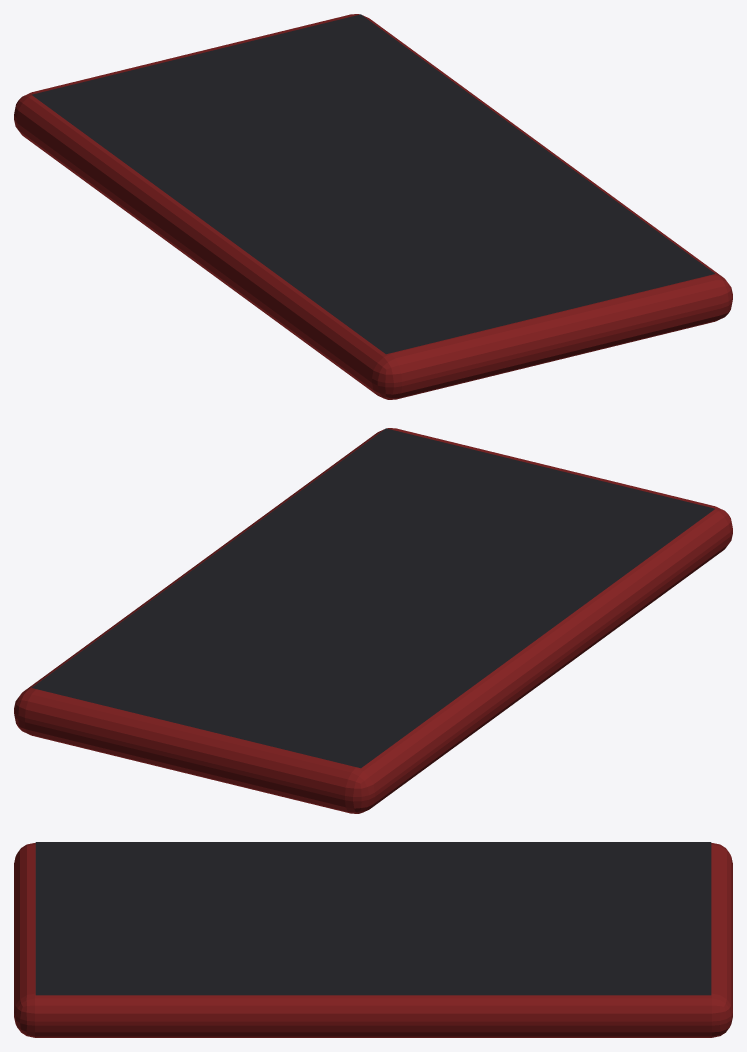
The model's file is Phone_27.glb.
3 renders of one model, top to bottom at view 1: azimuth 30°, elevation 25°; view 2: azimuth 150°, elevation 25°; view 3: azimuth 270°, elevation 25°, orthographic. The views are drawn at different scales.
Parts seen in each view (by area): view 1: Phone_Screen, Phone_Body; view 2: Phone_Screen, Phone_Body; view 3: Phone_Screen, Phone_Body.
Part boxes in pixels (x1=…): Phone_Screen: x1=32, y1=14, x2=714, y2=354; Phone_Body: x1=14, y1=14, x2=732, y2=399; Phone_Screen: x1=32, y1=428, x2=714, y2=768; Phone_Body: x1=14, y1=428, x2=732, y2=813; Phone_Screen: x1=35, y1=842, x2=711, y2=995; Phone_Body: x1=14, y1=843, x2=732, y2=1037.
Bounding box in the file's own units: 0.0778 × 0.0093 × 0.1419.
